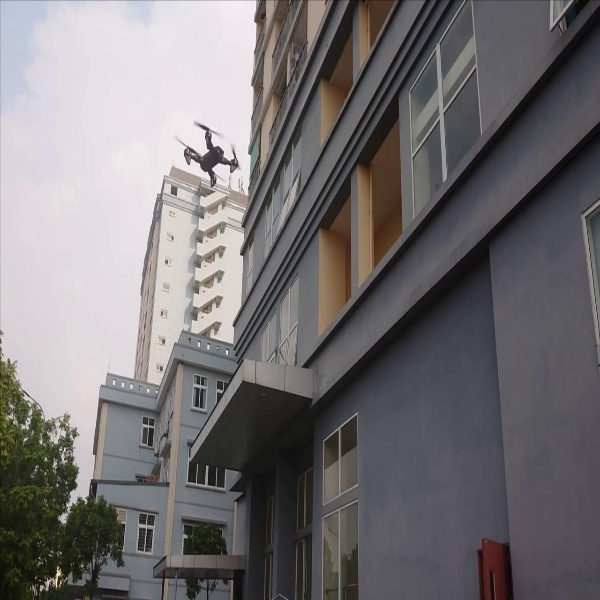drone: (174, 109, 247, 190)
